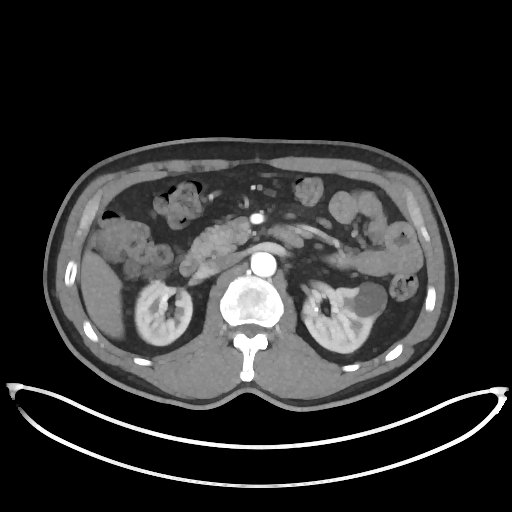Lesion: (347, 274, 389, 322)
